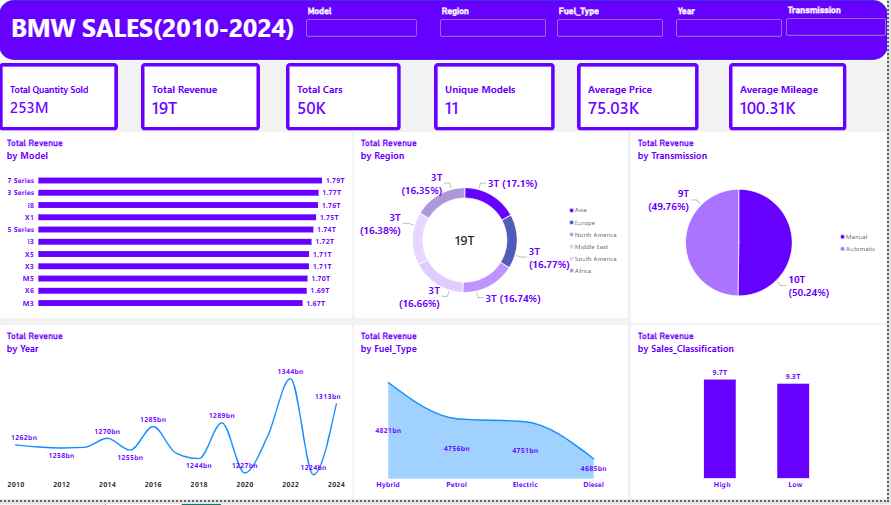

Layout of this report page (visuals, bound fields, positions):
{"tool":"powerbi","page":{"name":"Page 1","canvas":[1920,1080],"ordinal":0},"visuals":[{"type":"shape","box":[0,0,1920.2,129.6],"z":0},{"type":"textbox","box":[25.9,21.6,639.4,79.9],"z":1000},{"type":"cardVisual","fields":{"Data":["BMW_clean.Total Quantity Sold"]},"box":[0,136.1,257,146.9],"z":2000},{"type":"cardVisual","fields":{"Data":["BMW_clean.Total Revenue"]},"box":[306.7,136.1,257,146.9],"z":3000},{"type":"cardVisual","fields":{"Data":["BMW_clean.Total Cars"]},"box":[619.9,136.1,248.4,146.9],"z":4000},{"type":"cardVisual","fields":{"Data":["BMW_clean.Unique Models"]},"box":[939.6,136.1,261.4,146.9],"z":5000},{"type":"cardVisual","fields":{"Data":["BMW_clean.Average Mileage"]},"box":[1576.8,136.1,254.9,146.9],"z":6000},{"type":"cardVisual","fields":{"Data":["BMW_clean.Average Price"]},"box":[1248.5,136.1,263.5,146.9],"z":7000},{"type":"clusteredBarChart","fields":{"Category":["BMW_clean.Model"],"Y":["BMW_clean.Total Revenue"]},"box":[0,283,764.6,406.1],"z":8000},{"type":"donutChart","fields":{"Category":["BMW_clean.Region"],"Y":["BMW_clean.Total Revenue"]},"box":[764.6,283,596.2,406.1],"z":9000},{"type":"lineChart","fields":{"Category":["BMW_clean.Year"],"Y":["BMW_clean.Total Revenue"]},"box":[0,699.8,764.6,380.2],"z":10000},{"type":"pieChart","fields":{"Category":["BMW_clean.Transmission"],"Y":["BMW_clean.Total Revenue"]},"box":[1363,283,557.3,416.9],"z":11000},{"type":"stackedAreaChart","fields":{"Category":["BMW_clean.Fuel_Type"],"Y":["BMW_clean.Total Revenue"]},"box":[765,700,596,380],"z":12000},{"type":"columnChart","fields":{"Category":["BMW_clean.Sales_Classification"],"Y":["BMW_clean.Total Revenue"]},"box":[1363,700,557,380],"z":13000},{"type":"slicer","fields":{"Values":["BMW_clean.Model"]},"box":[658.8,13,248.4,101.5],"z":14000},{"type":"slicer","fields":{"Values":["BMW_clean.Region"]},"box":[948.2,13,237.6,101.5],"z":15000},{"type":"slicer","fields":{"Values":["BMW_clean.Fuel_Type"]},"box":[1201,13,237.6,101.5],"z":16000},{"type":"slicer","fields":{"Values":["BMW_clean.Year"]},"box":[1458,13,237.6,101.5],"z":17000},{"type":"slicer","fields":{"Values":["BMW_clean.Transmission"]},"box":[1695.6,10.8,224.6,101.5],"z":18000}]}

Visuals, with their boxes in screenshot pixels (x1, y1, x2, y2), scaled from the page's 1920x1080 canvas onto the 891x505 screenshot:
shape: left=0, top=0, right=890, bottom=61
textbox: left=12, top=10, right=309, bottom=47
cardVisual - BMW_clean.Total Quantity Sold: left=0, top=64, right=119, bottom=132
cardVisual - BMW_clean.Total Revenue: left=142, top=64, right=262, bottom=132
cardVisual - BMW_clean.Total Cars: left=288, top=64, right=403, bottom=132
cardVisual - BMW_clean.Unique Models: left=436, top=64, right=557, bottom=132
cardVisual - BMW_clean.Average Mileage: left=732, top=64, right=850, bottom=132
cardVisual - BMW_clean.Average Price: left=579, top=64, right=702, bottom=132
clusteredBarChart - BMW_clean.Model x BMW_clean.Total Revenue: left=0, top=132, right=355, bottom=322
donutChart - BMW_clean.Region x BMW_clean.Total Revenue: left=355, top=132, right=631, bottom=322
lineChart - BMW_clean.Year x BMW_clean.Total Revenue: left=0, top=327, right=355, bottom=504
pieChart - BMW_clean.Transmission x BMW_clean.Total Revenue: left=633, top=132, right=890, bottom=327
stackedAreaChart - BMW_clean.Fuel_Type x BMW_clean.Total Revenue: left=355, top=327, right=632, bottom=504
columnChart - BMW_clean.Sales_Classification x BMW_clean.Total Revenue: left=633, top=327, right=890, bottom=504
slicer - BMW_clean.Model: left=306, top=6, right=421, bottom=54
slicer - BMW_clean.Region: left=440, top=6, right=550, bottom=54
slicer - BMW_clean.Fuel_Type: left=557, top=6, right=668, bottom=54
slicer - BMW_clean.Year: left=677, top=6, right=787, bottom=54
slicer - BMW_clean.Transmission: left=787, top=5, right=890, bottom=53
